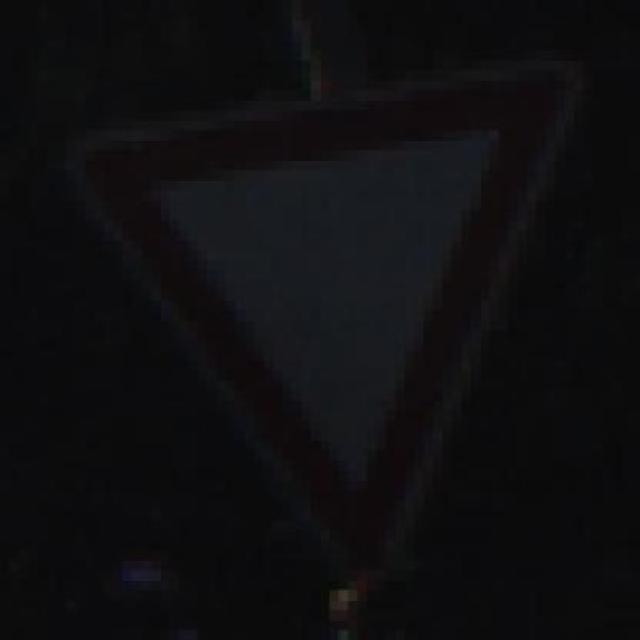Give Way: (85, 40, 603, 600)
